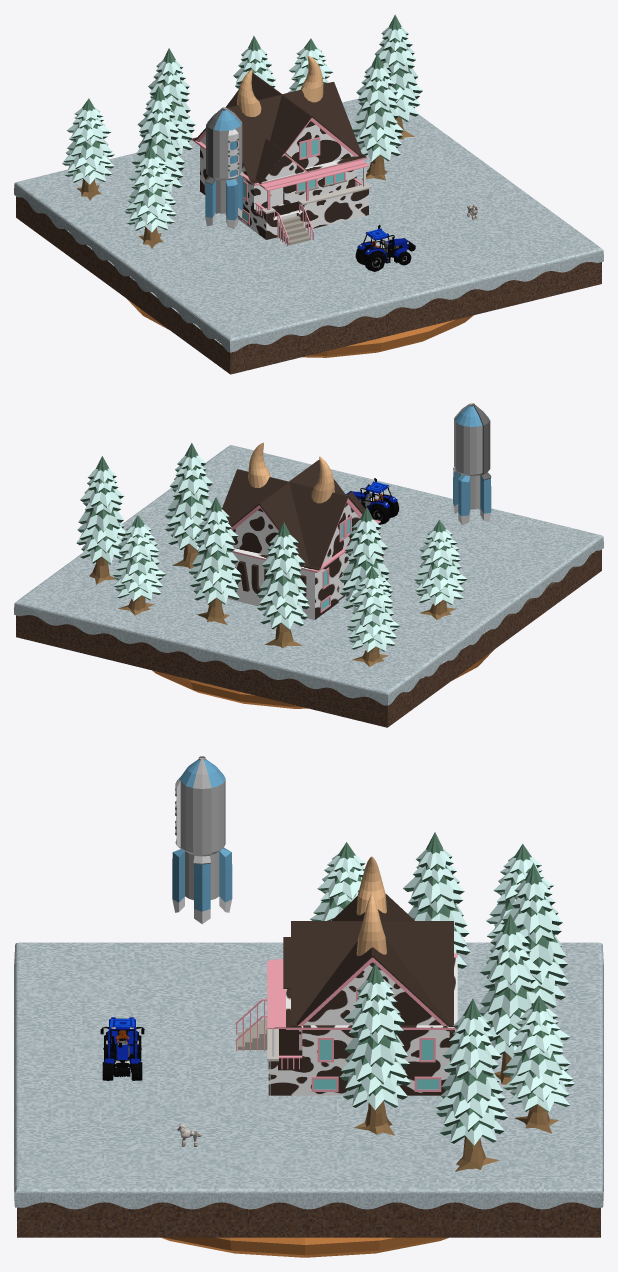
3 views of the same model, one above another, from view 1: azimuth 30°, elevation 25°; view 2: azimuth 150°, elevation 25°; view 3: azimuth 270°, elevation 25° (orthographic). The views are drawn at different scales.
Visible parts, largest first — view 1: Cube.003, Cube.1242, OBJRANDOM_ROCKETSHIP, UNDERGROUND_PIZZA, VEHICLES_TRACTOR; view 2: Cube.003, Cube.1242, OBJRANDOM_ROCKETSHIP, UNDERGROUND_PIZZA, VEHICLES_TRACTOR; view 3: Cube.003, Cube.1242, OBJRANDOM_ROCKETSHIP, UNDERGROUND_PIZZA, VEHICLES_TRACTOR.
Part boxes in pixels (x1,y1,x2,y2): Cube.003: [14, 14, 603, 374]; Cube.1242: [191, 55, 371, 246]; OBJRANDOM_ROCKETSHIP: [205, 107, 243, 229]; UNDERGROUND_PIZZA: [127, 299, 473, 357]; VEHICLES_TRACTOR: [355, 224, 415, 271]; Cube.003: [14, 443, 603, 727]; Cube.1242: [222, 442, 383, 619]; OBJRANDOM_ROCKETSHIP: [453, 403, 491, 525]; UNDERGROUND_PIZZA: [152, 650, 493, 708]; VEHICLES_TRACTOR: [346, 478, 399, 524]; Cube.003: [14, 832, 603, 1237]; Cube.1242: [235, 856, 457, 1095]; OBJRANDOM_ROCKETSHIP: [172, 756, 232, 924]; UNDERGROUND_PIZZA: [161, 1237, 448, 1257]; VEHICLES_TRACTOR: [100, 1017, 144, 1080].
Bounding box in the file's own units: 4040 × 2363 × 4040.
38 materials, 3 textured.
